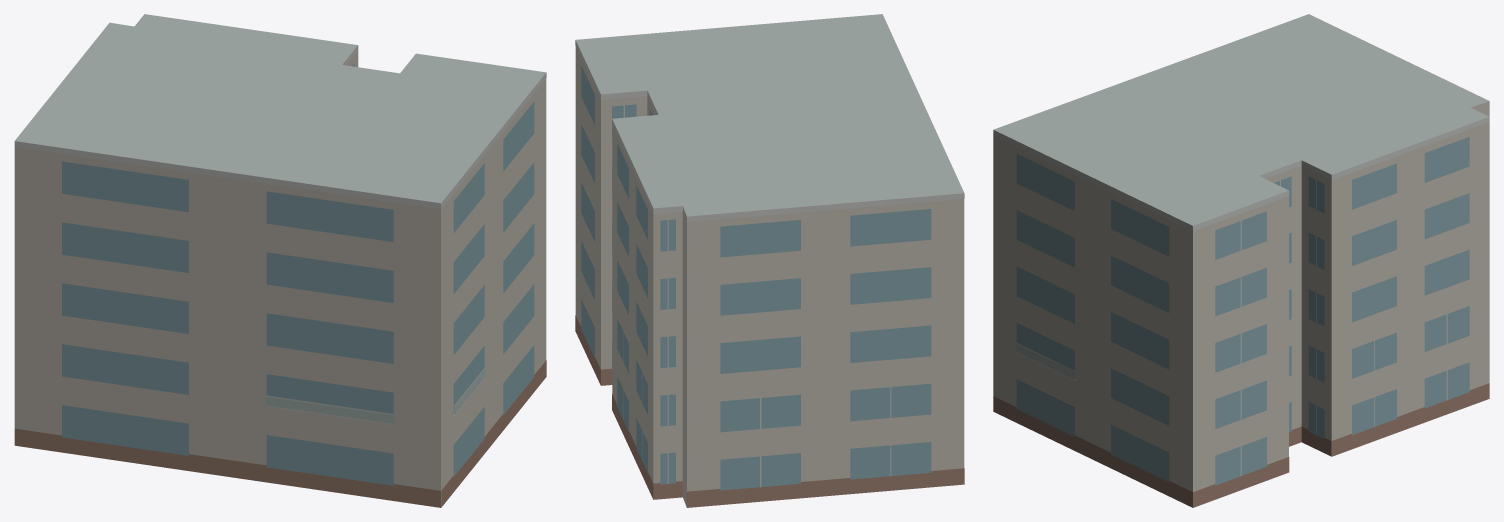
File: survey-upis-32638749.glb
3 views of the same model, side by side, from view 1: azimuth 30°, elevation 25°; view 2: azimuth 150°, elevation 25°; view 3: azimuth 270°, elevation 25° (orthographic). The views are drawn at different scales.
Parts seen in each view (by area): view 1: survey-upis-32638749.tmp; view 2: survey-upis-32638749.tmp; view 3: survey-upis-32638749.tmp.
Boxes of the visible parts, x1,y1,x2,y2 form: survey-upis-32638749.tmp: [14, 14, 546, 507]; survey-upis-32638749.tmp: [575, 14, 964, 507]; survey-upis-32638749.tmp: [993, 14, 1489, 507].
Size of the model in its own units: 20.81 by 12.9 by 20.59.
